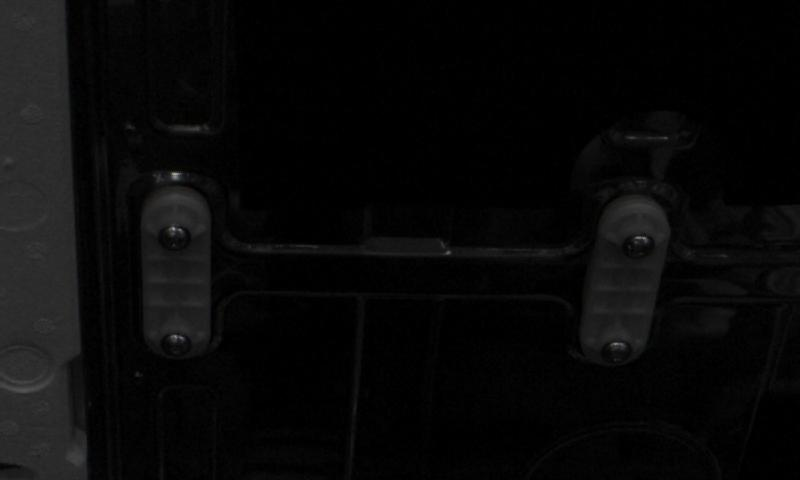vida-ok: (621, 227, 665, 266), (598, 332, 637, 372), (157, 216, 195, 255), (158, 327, 195, 362)
